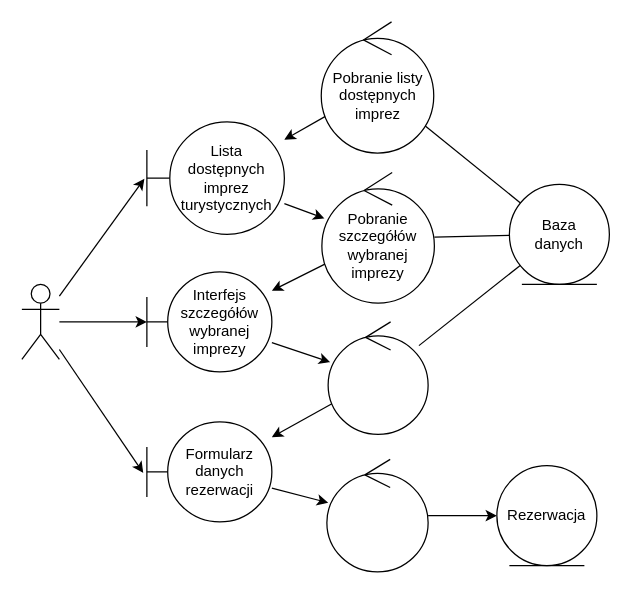
Image size: 631x594. Some labels were removed from this diagram. Each missing label, with the centre of its shape:
Klient: (x=40, y=321)
Weryfikacja możliwości rezerwacji: (x=377, y=377)
Weryfikacja poprawności danych: (x=377, y=515)
